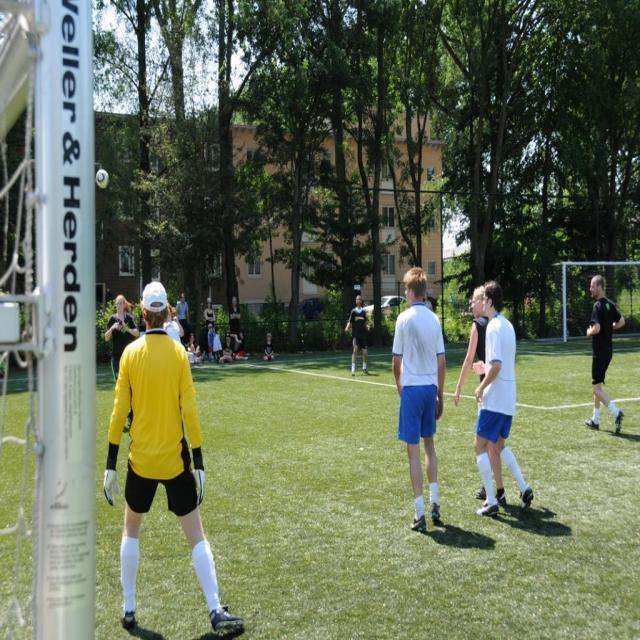football: (90, 161, 115, 189)
